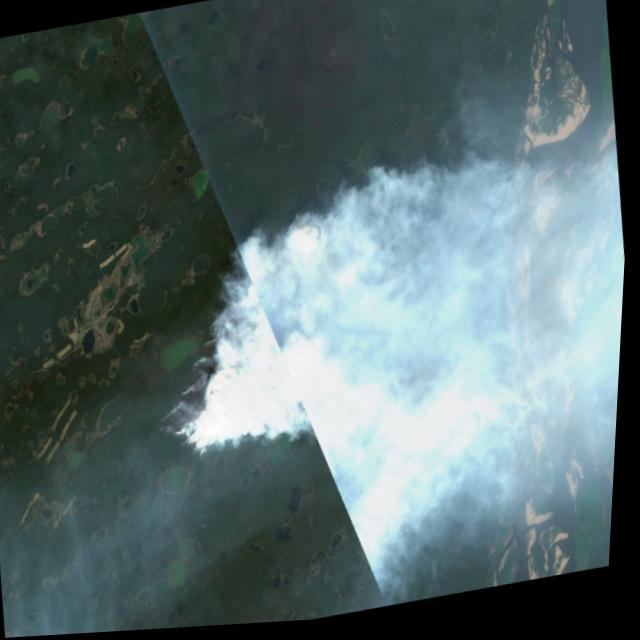fire: (135, 206, 402, 467)
